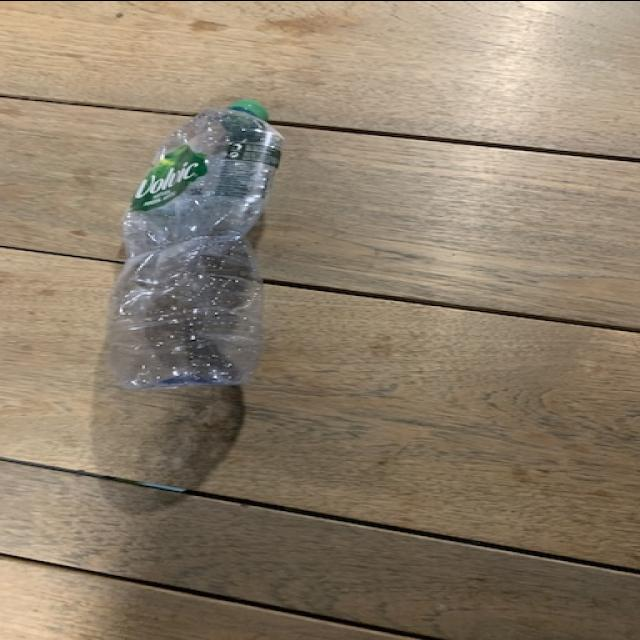PET: (98, 99, 294, 402)
